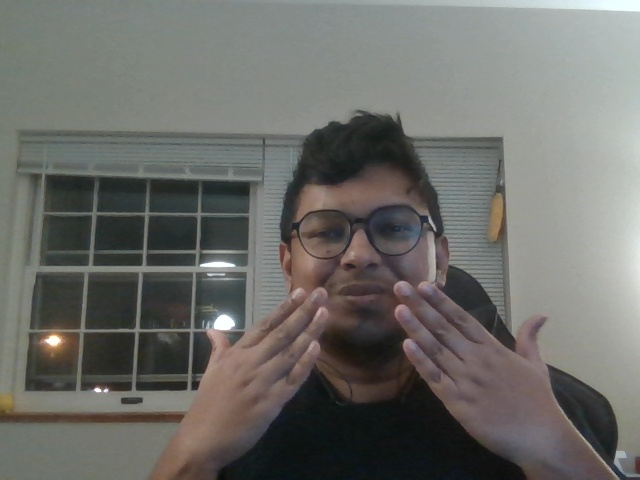thanks: (170, 262, 624, 480)
